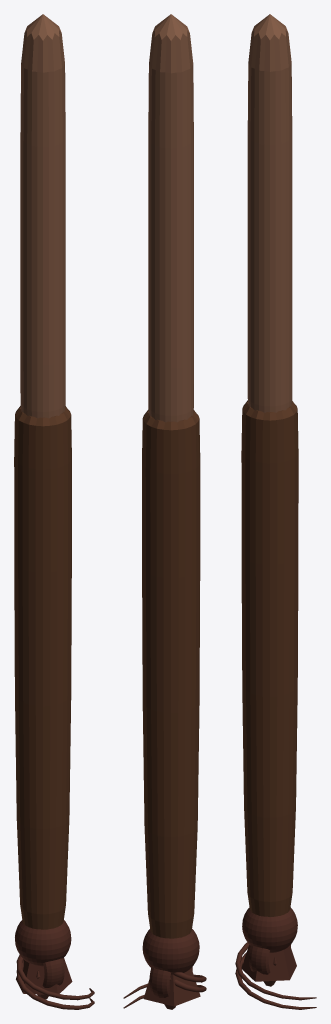
The model's file is Wand 19.glb.
The picture shows the model from 3 angles, left to right: view 1: azimuth 30°, elevation 25°; view 2: azimuth 150°, elevation 25°; view 3: azimuth 330°, elevation 25°; orthographic projection. The views are drawn at different scales.
Parts seen in each view (by area): view 1: GeneratedWand, Pommel_4, Pommel_9, Pommel_2, Pommel_10; view 2: GeneratedWand, Pommel_4, Pommel_9, Pommel_2, Pommel_10; view 3: GeneratedWand, Pommel_4, Pommel_9, Pommel_2, Pommel_10.
Boxes of the visible parts, x1,y1,x2,y2 form: GeneratedWand: [14, 14, 94, 1000]; Pommel_4: [15, 920, 71, 966]; Pommel_9: [16, 958, 72, 994]; Pommel_2: [42, 958, 64, 987]; Pommel_10: [16, 960, 94, 1009]; GeneratedWand: [123, 14, 206, 998]; Pommel_4: [142, 929, 199, 974]; Pommel_9: [143, 968, 200, 1006]; Pommel_2: [149, 967, 192, 997]; Pommel_10: [123, 978, 206, 1008]; GeneratedWand: [235, 14, 316, 1000]; Pommel_4: [242, 907, 297, 952]; Pommel_9: [241, 945, 296, 981]; Pommel_2: [249, 944, 291, 974]; Pommel_10: [235, 952, 316, 1009].
Bounding box in the file's own units: 0.0402 × 0.5188 × 0.0338.
